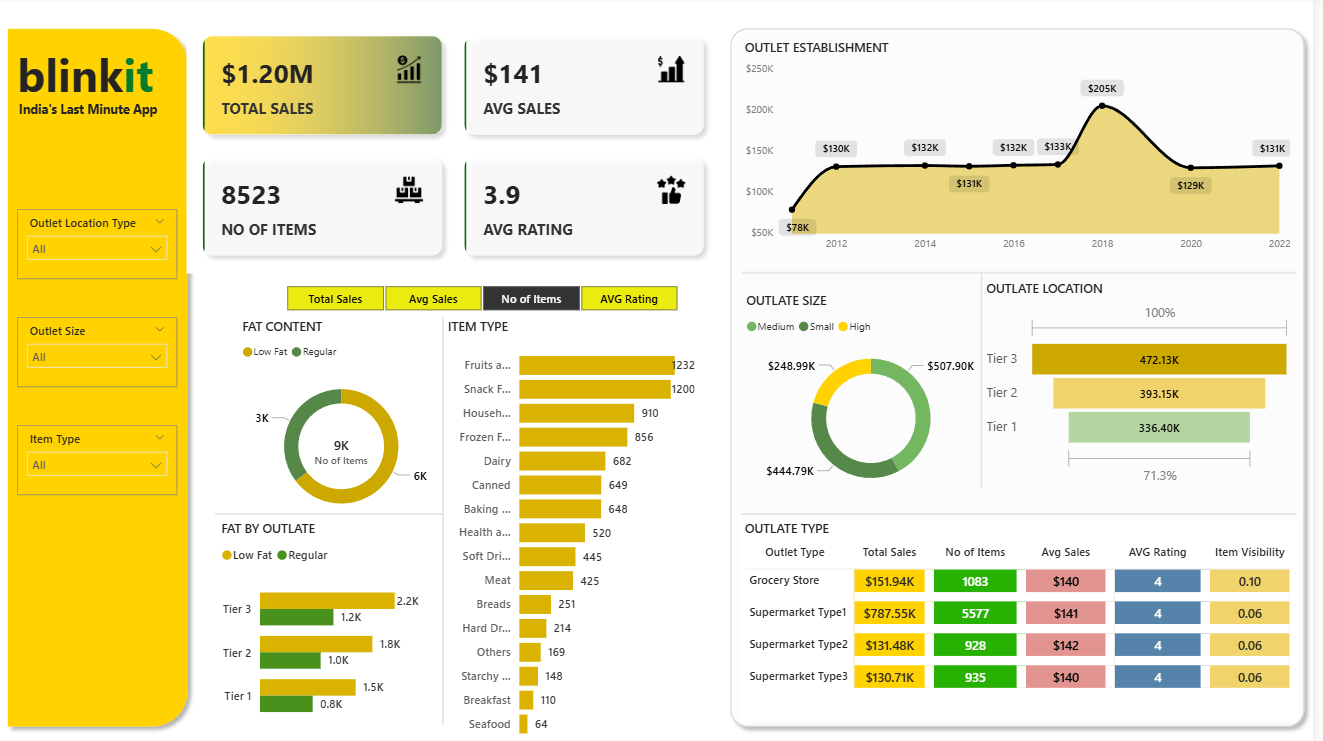

The page's visual inventory and layout, read from the dashboard file:
{"tool":"powerbi","page":{"name":"Page 1","canvas":[1400,800],"ordinal":0},"visuals":[{"type":"shape","box":[0,24.8,210.3,761.8],"z":0},{"type":"textbox","box":[14.9,44.7,168.9,74.5],"z":1000},{"type":"textbox","box":[16.6,106,183.8,28.2],"z":2000},{"type":"cardVisual","fields":{"Data":["BlinkIT Grocery Data.Total Sales","BlinkIT Grocery Data.Avg Sales","BlinkIT Grocery Data.No of Items","BlinkIT Grocery Data.AVG Rating"]},"box":[200.4,24.8,569.7,270],"z":3000},{"type":"shape","box":[770.1,24.8,629.3,761.8],"z":4000},{"type":"donutChart","title":"FAT CONTENT","fields":{"Y":["BlinkIT Grocery Data.No of Items"],"Category":["BlinkIT Grocery Data.Item Fat Content"]},"box":[253.4,341.2,220.3,230.2],"z":5000},{"type":"slicer","fields":{"Values":["Matrix.Matrix"]},"box":[281.5,301.4,465.4,39.7],"z":6000},{"type":"cardVisual","fields":{"Data":["BlinkIT Grocery Data.No of Items"]},"box":[309.7,445.5,109.3,79.5],"z":7000},{"type":"clusteredBarChart","title":"FAT BY OUTLATE","fields":{"Y":["BlinkIT Grocery Data.No of Items"],"Category":["BlinkIT Grocery Data.Outlet Location Type"],"Series":["BlinkIT Grocery Data.Item Fat Content"]},"box":[231.9,558.1,220.3,230.2],"z":8000},{"type":"shape","box":[230.2,531.6,243.5,39.7],"z":9000},{"type":"shape","box":[452.1,341.2,41.4,433.9],"z":10000},{"type":"barChart","title":"ITEM TYPE","fields":{"Y":["BlinkIT Grocery Data.No of Items"],"Category":["BlinkIT Grocery Data.Item Type"]},"box":[473.7,341.2,273.3,458.8],"z":11000},{"type":"lineChart","title":"OUTLET ESTABLISHMENT","fields":{"Category":["BlinkIT Grocery Data.Outlet Establishment Year"],"Y":["BlinkIT Grocery Data.Total Sales"]},"box":[790,44.7,591.2,235.2],"z":12000},{"type":"shape","box":[791.6,274.9,591.2,39.7],"z":13000},{"type":"donutChart","title":"OUTLATE SIZE","fields":{"Y":["BlinkIT Grocery Data.Total Sales"],"Category":["BlinkIT Grocery Data.Outlet Size"]},"box":[791.6,314.7,275,225],"z":14000},{"type":"shape","box":[1025.2,294.8,41.4,230.2],"z":15000},{"type":"funnel","title":"OUTLATE LOCATION","fields":{"Y":["Sum(BlinkIT Grocery Data.Sales)"],"Category":["BlinkIT Grocery Data.Outlet Location Type"]},"box":[1046.7,301.4,334.5,223.6],"z":16000},{"type":"shape","box":[791.6,538.3,591.2,26.5],"z":17000},{"type":"pivotTable","title":"OUTLATE TYPE","fields":{"Rows":["BlinkIT Grocery Data.Outlet Type"],"Values":["BlinkIT Grocery Data.Total Sales","BlinkIT Grocery Data.No of Items","BlinkIT Grocery Data.Avg Sales","BlinkIT Grocery Data.AVG Rating","Avg(BlinkIT Grocery Data.Item Visibility)"]},"box":[790,558.1,594.6,213.6],"z":18000},{"type":"slicer","fields":{"Values":["BlinkIT Grocery Data.Outlet Location Type"]},"box":[19.9,226.9,170.6,74.5],"z":19000},{"type":"slicer","fields":{"Values":["BlinkIT Grocery Data.Outlet Size"]},"box":[19.9,341.2,170.6,74.5],"z":20000},{"type":"slicer","fields":{"Values":["BlinkIT Grocery Data.Item Type"]},"box":[19.9,457.1,170.6,74.5],"z":21000}]}

Visuals, with their boxes in screenshot pixels (x1, y1, x2, y2), scaled from the page's 1400x800 canvas onto the 1323x741 screenshot:
shape: bbox=[0, 23, 199, 729]
textbox: bbox=[14, 41, 174, 110]
textbox: bbox=[16, 98, 189, 124]
cardVisual - BlinkIT Grocery Data.Total Sales x BlinkIT Grocery Data.Avg Sales: bbox=[189, 23, 728, 273]
shape: bbox=[728, 23, 1322, 729]
"FAT CONTENT" donutChart: bbox=[239, 316, 448, 529]
slicer - Matrix.Matrix: bbox=[266, 279, 706, 316]
cardVisual - BlinkIT Grocery Data.No of Items: bbox=[293, 413, 396, 486]
"FAT BY OUTLATE" clusteredBarChart: bbox=[219, 517, 427, 730]
shape: bbox=[218, 492, 448, 529]
shape: bbox=[427, 316, 466, 718]
"ITEM TYPE" barChart: bbox=[448, 316, 706, 740]
"OUTLET ESTABLISHMENT" lineChart: bbox=[747, 41, 1305, 259]
shape: bbox=[748, 255, 1307, 291]
"OUTLATE SIZE" donutChart: bbox=[748, 291, 1008, 500]
shape: bbox=[969, 273, 1008, 486]
"OUTLATE LOCATION" funnel: bbox=[989, 279, 1305, 486]
shape: bbox=[748, 499, 1307, 523]
"OUTLATE TYPE" pivotTable: bbox=[747, 517, 1308, 715]
slicer - BlinkIT Grocery Data.Outlet Location Type: bbox=[19, 210, 180, 279]
slicer - BlinkIT Grocery Data.Outlet Size: bbox=[19, 316, 180, 385]
slicer - BlinkIT Grocery Data.Item Type: bbox=[19, 423, 180, 492]
